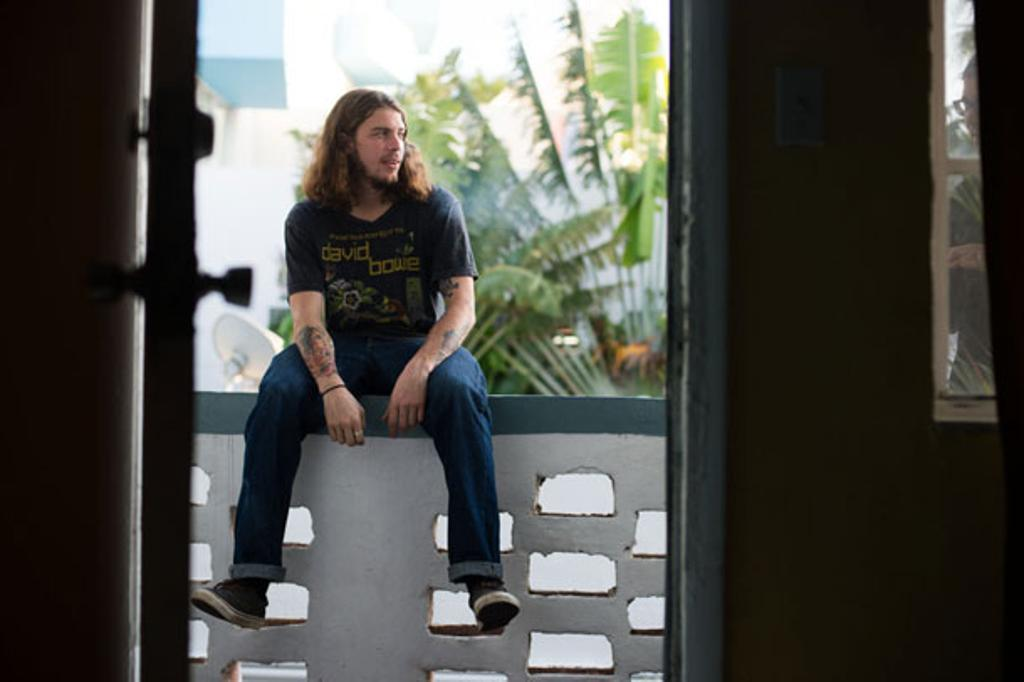face: (358, 100, 410, 180)
